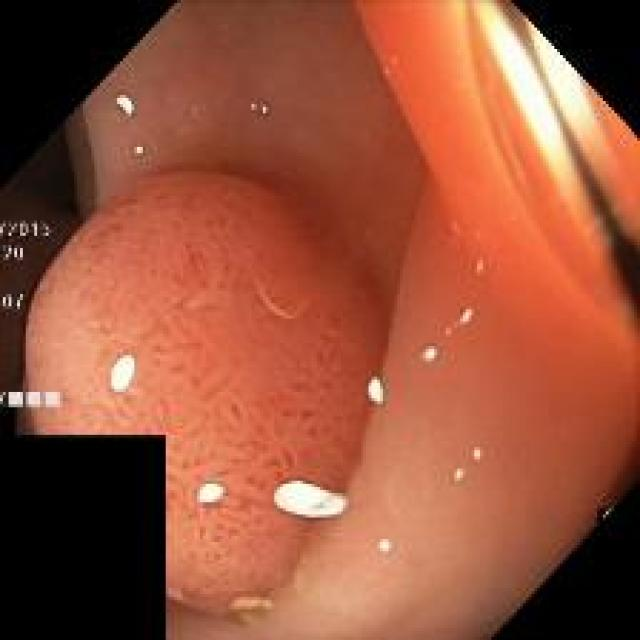Polyps: (25, 174, 390, 614)
